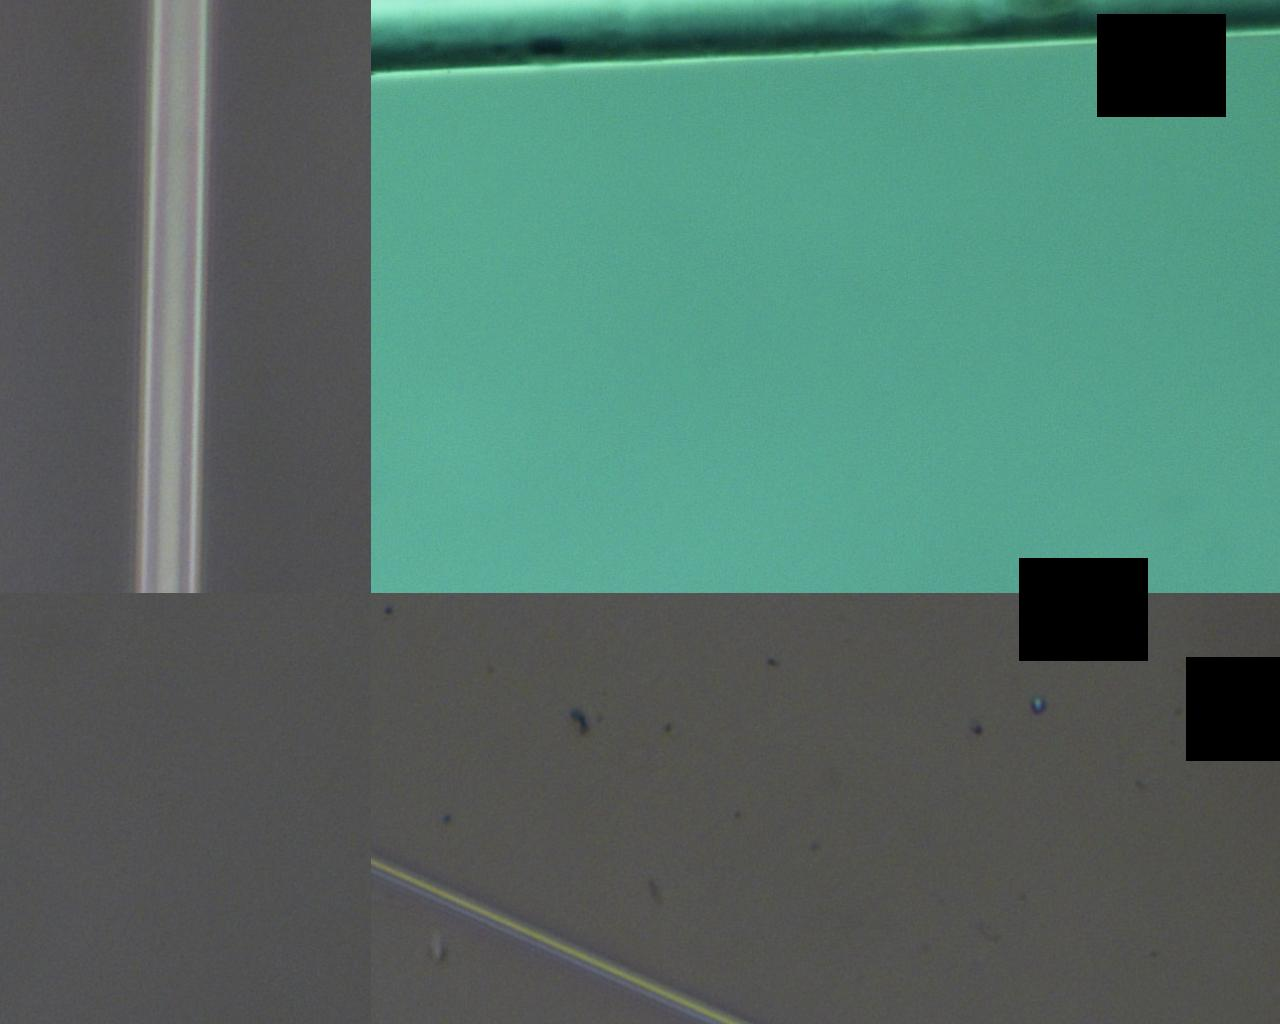fiber: (537, 0, 1280, 337), (537, 554, 1216, 845), (0, 573, 537, 817), (255, 0, 447, 337)
